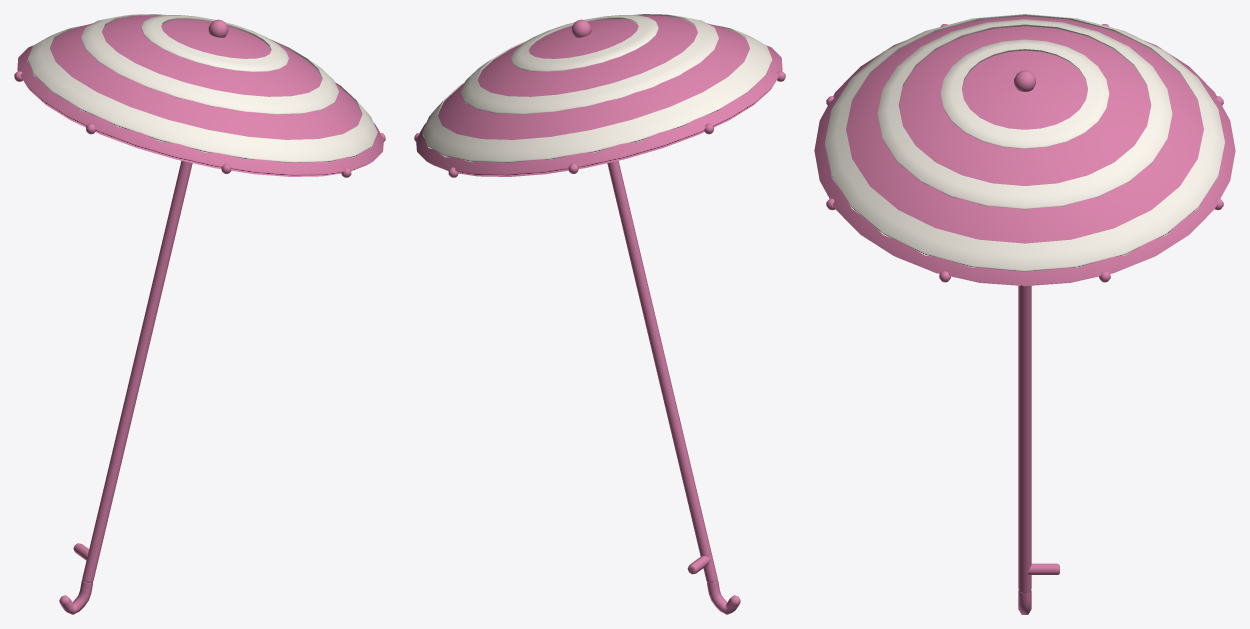
The model's file is picnic_umbrella.glb.
3 views of the same model, side by side, from view 1: azimuth 30°, elevation 25°; view 2: azimuth 150°, elevation 25°; view 3: azimuth 270°, elevation 25° (orthographic). The views are drawn at different scales.
Parts seen in each view (by area): view 1: picnic_umbrella_ArmR; view 2: picnic_umbrella_ArmR; view 3: picnic_umbrella_ArmR.
Part boxes in pixels (<box>): picnic_umbrella_ArmR: <box>14,14,385,614</box>; picnic_umbrella_ArmR: <box>414,14,785,614</box>; picnic_umbrella_ArmR: <box>814,14,1235,614</box>.
Size of the model in its own units: 0.8703 by 1.47 by 0.9.
